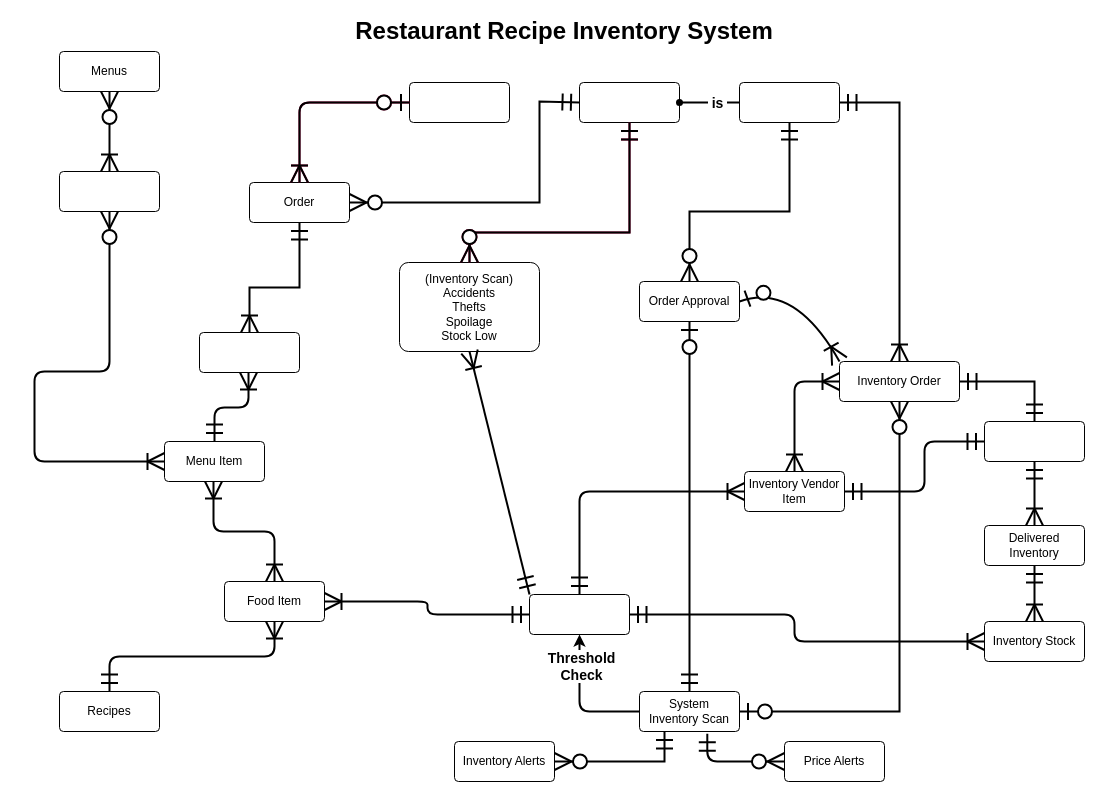
The diagram is 1102 pixels wide and 799 high, and some of its shapes have lost their labels. Each missing label, with the box of its shape:
Categories: (58, 170, 160, 212)
Customer: (408, 82, 510, 122)
Employee: (578, 82, 680, 122)
Inventory Item: (528, 594, 630, 634)
Managers: (738, 82, 840, 122)
Order Item: (198, 332, 300, 372)
Vendors: (984, 420, 1084, 462)
